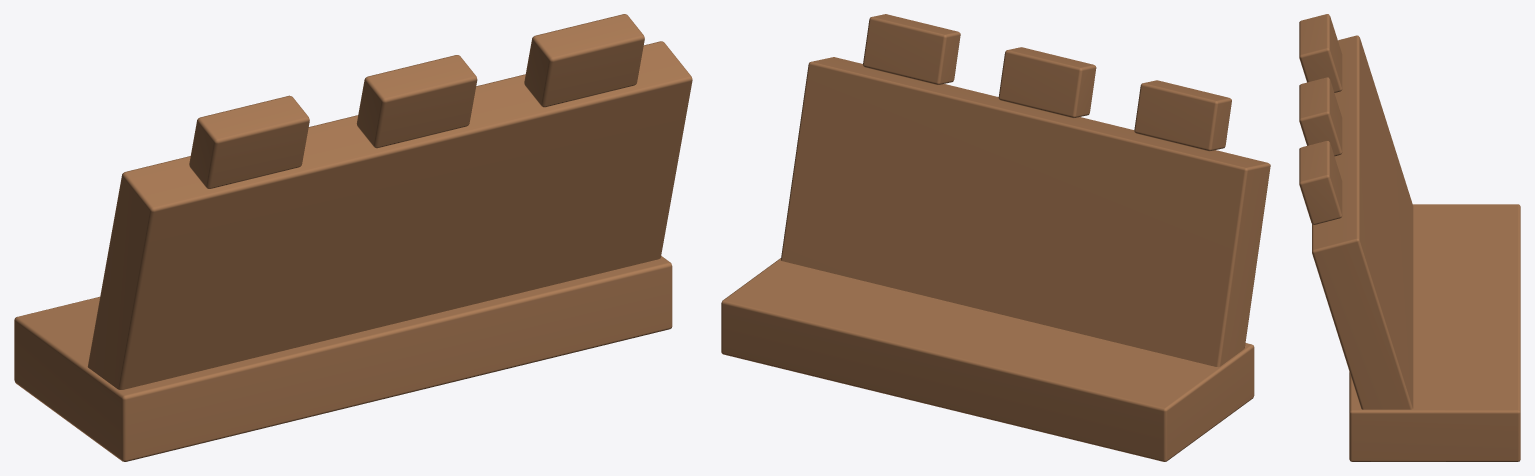
The model's file is interior_rear_seats.glb.
3 views of the same model, side by side, from view 1: azimuth 30°, elevation 25°; view 2: azimuth 150°, elevation 25°; view 3: azimuth 270°, elevation 25° (orthographic). The views are drawn at different scales.
Parts seen in each view (by area): view 1: GEO_Interior_Rear_Seats; view 2: GEO_Interior_Rear_Seats; view 3: GEO_Interior_Rear_Seats.
Part boxes in pixels (<box>): GEO_Interior_Rear_Seats: <box>14,14,692,461</box>; GEO_Interior_Rear_Seats: <box>721,14,1270,461</box>; GEO_Interior_Rear_Seats: <box>1299,14,1520,461</box>.
Size of the model in its own units: 1.38 by 0.8175 by 0.6203.
